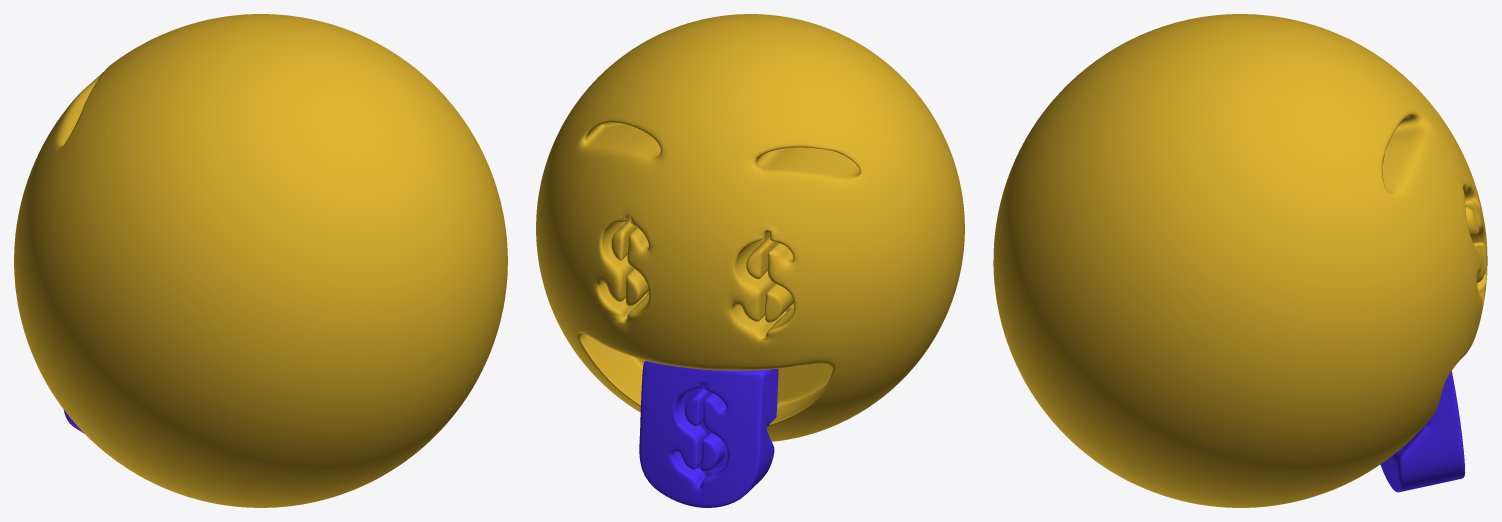
File: money.glb
3 views of the same model, side by side, from view 1: azimuth 30°, elevation 25°; view 2: azimuth 150°, elevation 25°; view 3: azimuth 270°, elevation 25° (orthographic). The views are drawn at different scales.
Parts seen in each view (by area): view 1: Group30442; view 2: Group30442, Group40558; view 3: Group30442, Group40558.
Part boxes in pixels (<box>): Group30442: <box>14,14,507,507</box>; Group30442: <box>536,14,964,441</box>; Group40558: <box>639,360,778,507</box>; Group30442: <box>993,14,1487,507</box>; Group40558: <box>1380,371,1465,492</box>.
Bounding box in the file's own units: 0.5134 × 0.5306 × 0.5136.
